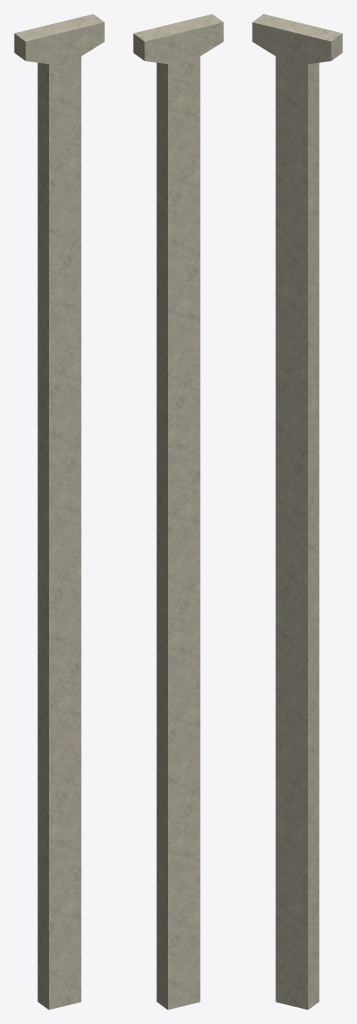
File: BridgePillar5-2L.FBX
3 views of the same model, side by side, from view 1: azimuth 30°, elevation 25°; view 2: azimuth 210°, elevation 25°; view 3: azimuth 330°, elevation 25° (orthographic).
Visible parts, largest first — view 1: BridgePillar5; view 2: BridgePillar5; view 3: BridgePillar5.
Boxes of the visible parts, bbox=[...] form: BridgePillar5: bbox=[14, 14, 104, 1009]; BridgePillar5: bbox=[133, 14, 223, 1009]; BridgePillar5: bbox=[252, 14, 342, 1009].
Size of the model in its own units: 17 by 200 by 4.22.
